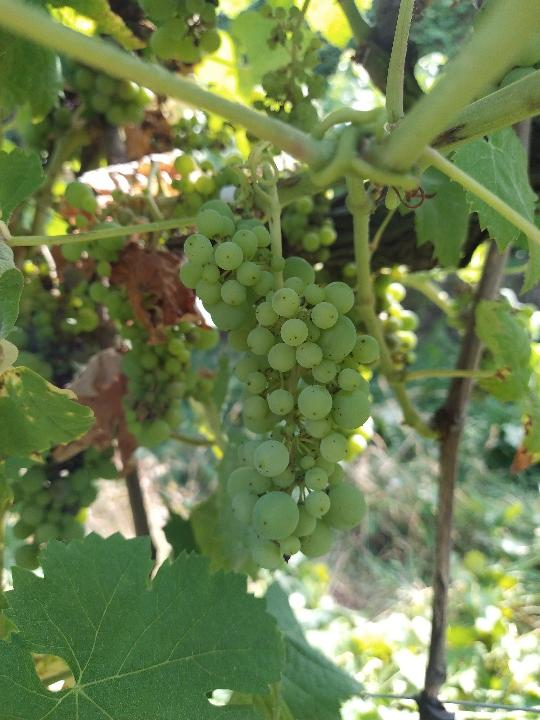grape: (176, 201, 382, 575)
